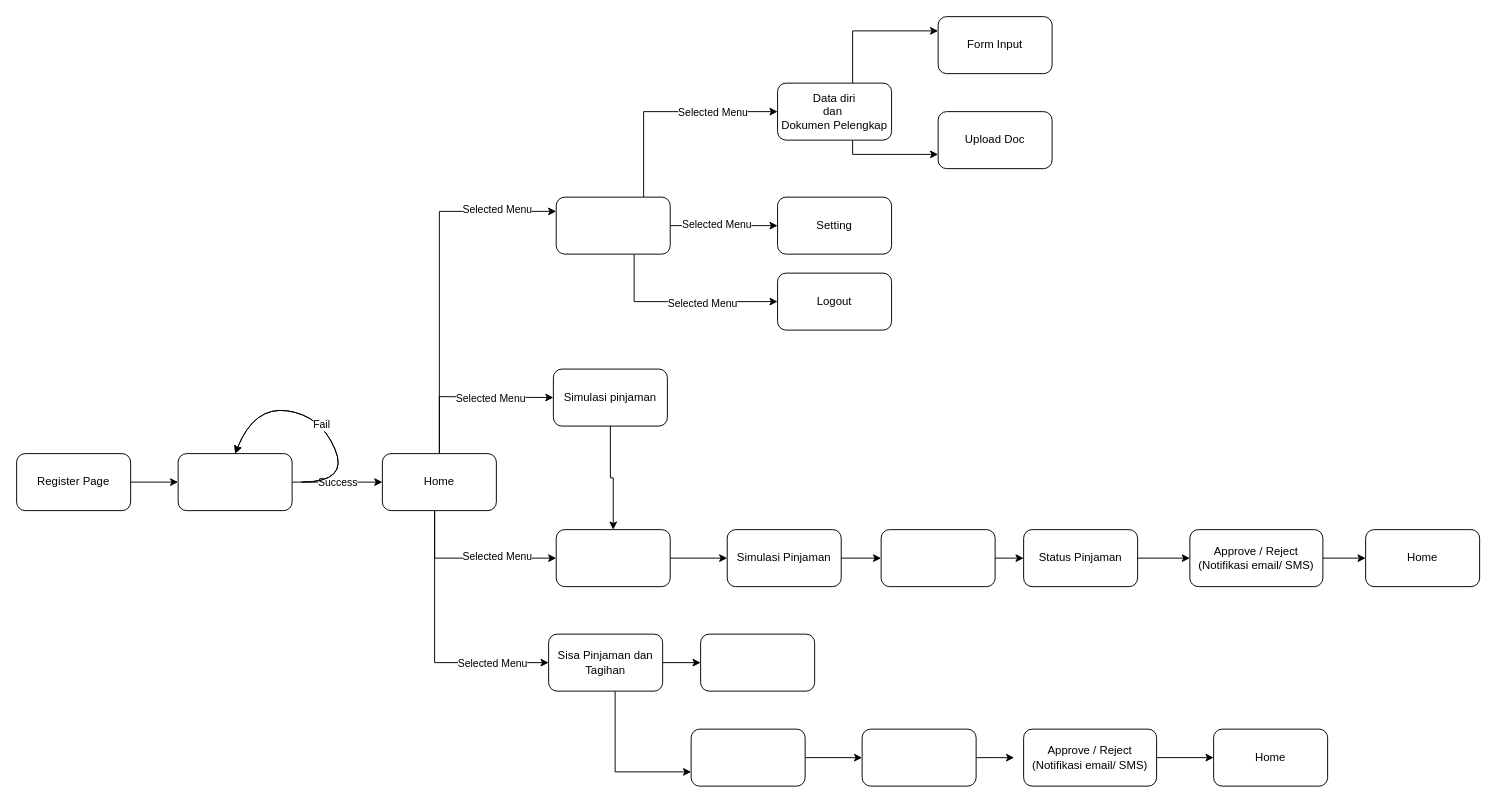
Image size: 1496x803. Some labels were removed from this diagram. The shapes that lost their labels are listed below. From the top down, each one's centre as x and y in pixels, then its label:
[612,225]: Profile
[234,482]: Login page
[612,558]: Buat Pinjaman
[937,558]: Halaman detail pinjaman
[757,662]: Detail Transaksi
[747,757]: Pembayaran
[918,757]: Status pembayaran
